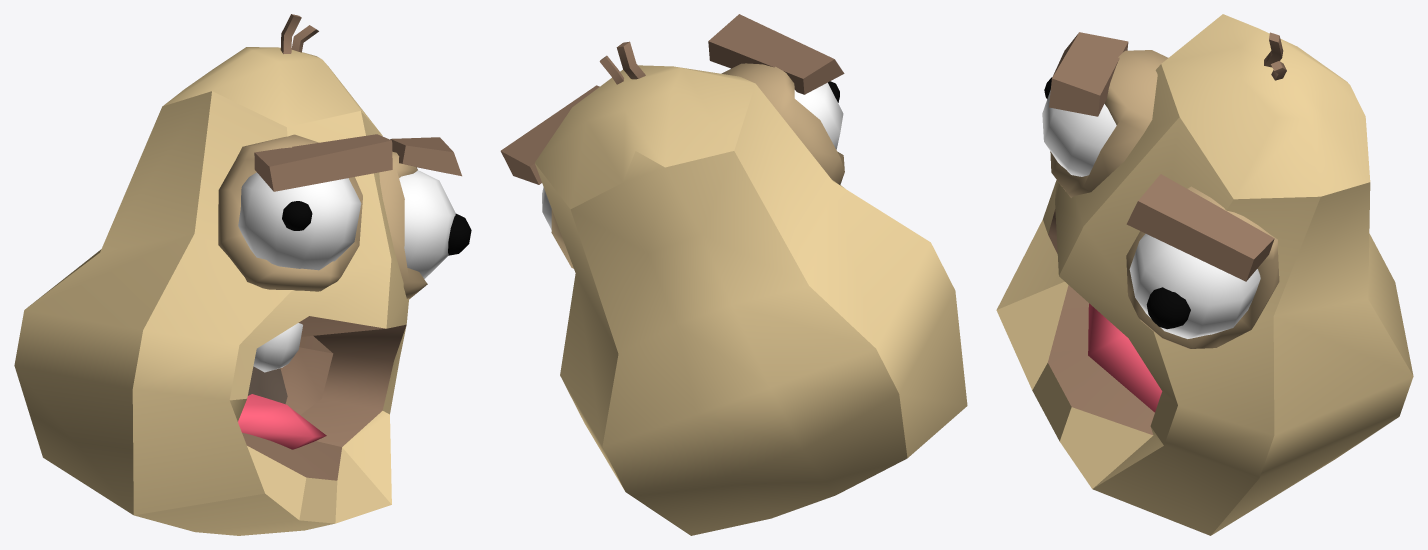
Rendered from fafatefinale.fbx.
The picture shows the model from 3 angles, left to right: view 1: azimuth 30°, elevation 25°; view 2: azimuth 150°, elevation 25°; view 3: azimuth 270°, elevation 25°; orthographic projection. The views are drawn at different scales.
Parts seen in each view (by area): view 1: Box001; view 2: Box001; view 3: Box001.
Boxes of the visible parts, left/top/right/bottom form: Box001: left=14, top=14, right=471, bottom=535; Box001: left=500, top=14, right=967, bottom=535; Box001: left=996, top=14, right=1413, bottom=535.
Size of the model in its own units: 89.9 by 102 by 74.97.
